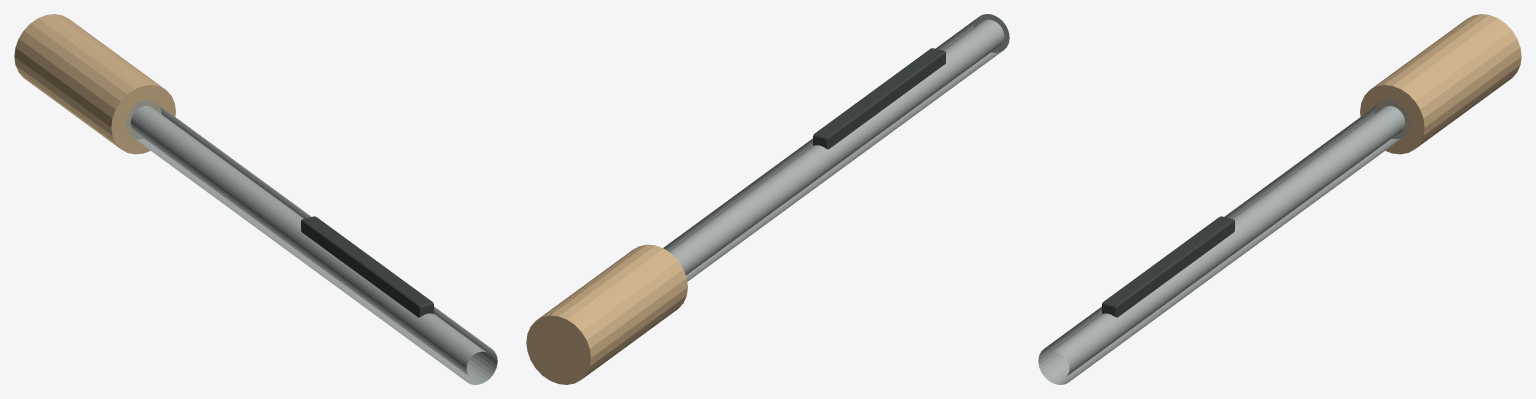
File: coffee-roastery-and-cupping-room-coffee-roastery-and-c-5a0966e8__32179.glb
3 views of the same model, side by side, from view 1: azimuth 30°, elevation 25°; view 2: azimuth 150°, elevation 25°; view 3: azimuth 330°, elevation 25° (orthographic).
Parts seen in each view (by area): view 1: coffee-roastery-and-cupping-room-sack-sampling-spear; view 2: coffee-roastery-and-cupping-room-sack-sampling-spear; view 3: coffee-roastery-and-cupping-room-sack-sampling-spear.
Boxes of the visible parts, x1,y1,x2,y2 form: coffee-roastery-and-cupping-room-sack-sampling-spear: [14, 14, 497, 384]; coffee-roastery-and-cupping-room-sack-sampling-spear: [526, 14, 1009, 384]; coffee-roastery-and-cupping-room-sack-sampling-spear: [1038, 14, 1521, 384].
Bounding box in the file's own units: 0.05 × 0.05 × 0.58.
